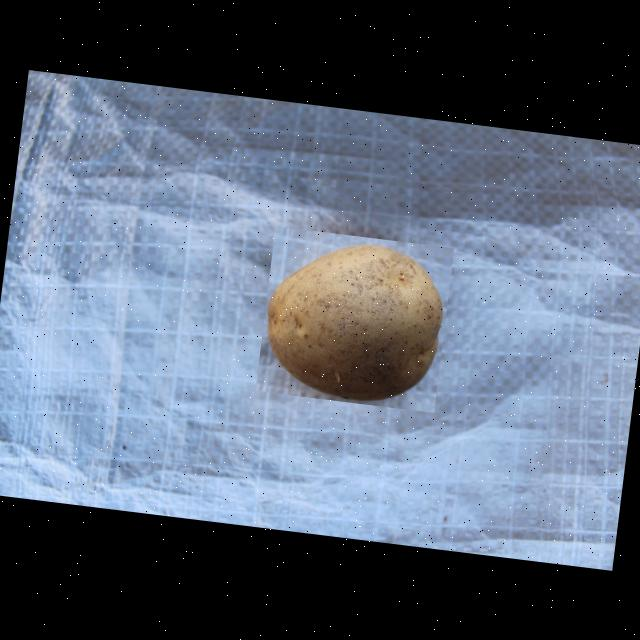Diseased-fungal potato: (255, 225, 454, 412)
